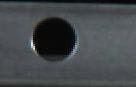holes: (30, 16, 78, 63)
